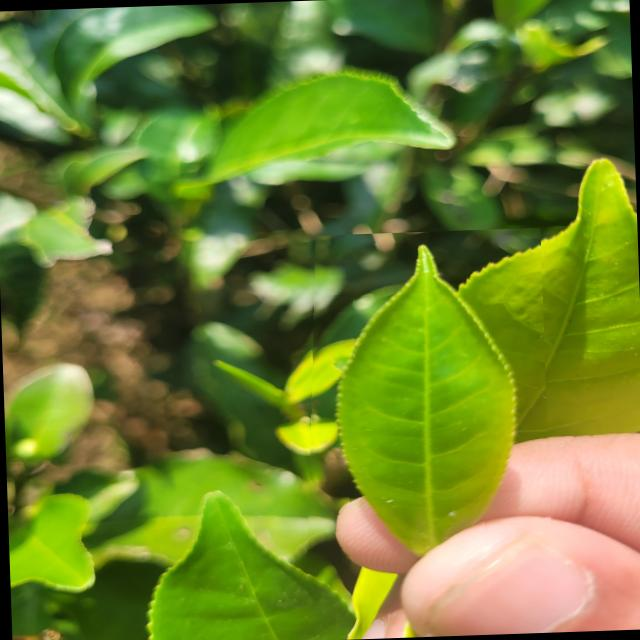Catagory A(1-2 days): (294, 228, 550, 560)
